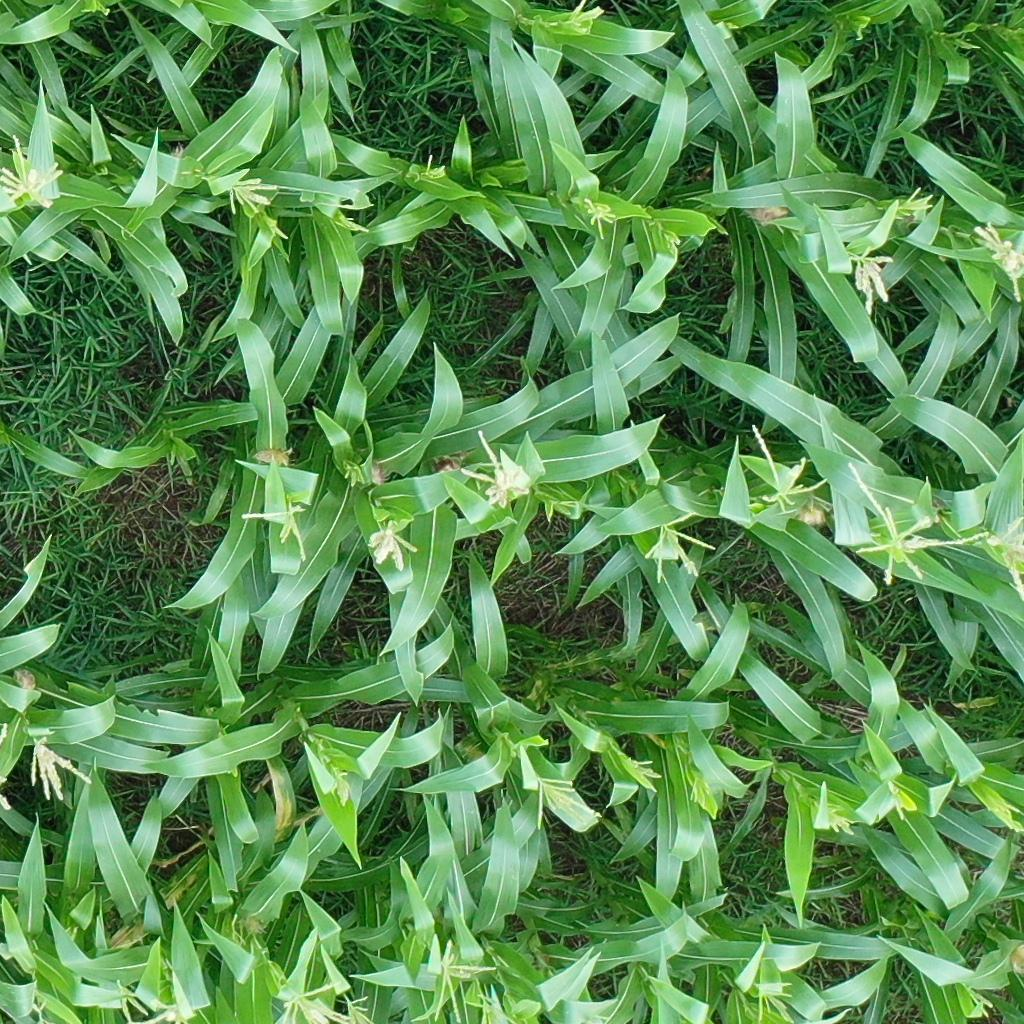Tassel: (844, 460, 983, 587), (417, 938, 524, 1024), (741, 423, 829, 515), (639, 513, 715, 591), (456, 430, 527, 511), (22, 735, 93, 802), (1, 133, 62, 210), (970, 222, 1024, 302), (529, 774, 600, 834), (844, 238, 897, 314), (242, 507, 309, 561), (106, 983, 192, 1024), (984, 516, 1024, 597), (277, 978, 342, 1024), (365, 518, 417, 573), (621, 750, 667, 800), (749, 983, 806, 1023), (226, 177, 277, 219), (885, 184, 937, 221), (322, 761, 359, 810), (558, 1, 608, 36), (815, 799, 857, 839), (885, 767, 911, 825), (341, 993, 379, 1024), (582, 200, 614, 236), (991, 800, 1024, 833), (964, 984, 998, 1016), (333, 211, 370, 236), (421, 154, 446, 184), (690, 782, 716, 810), (660, 231, 682, 255)
